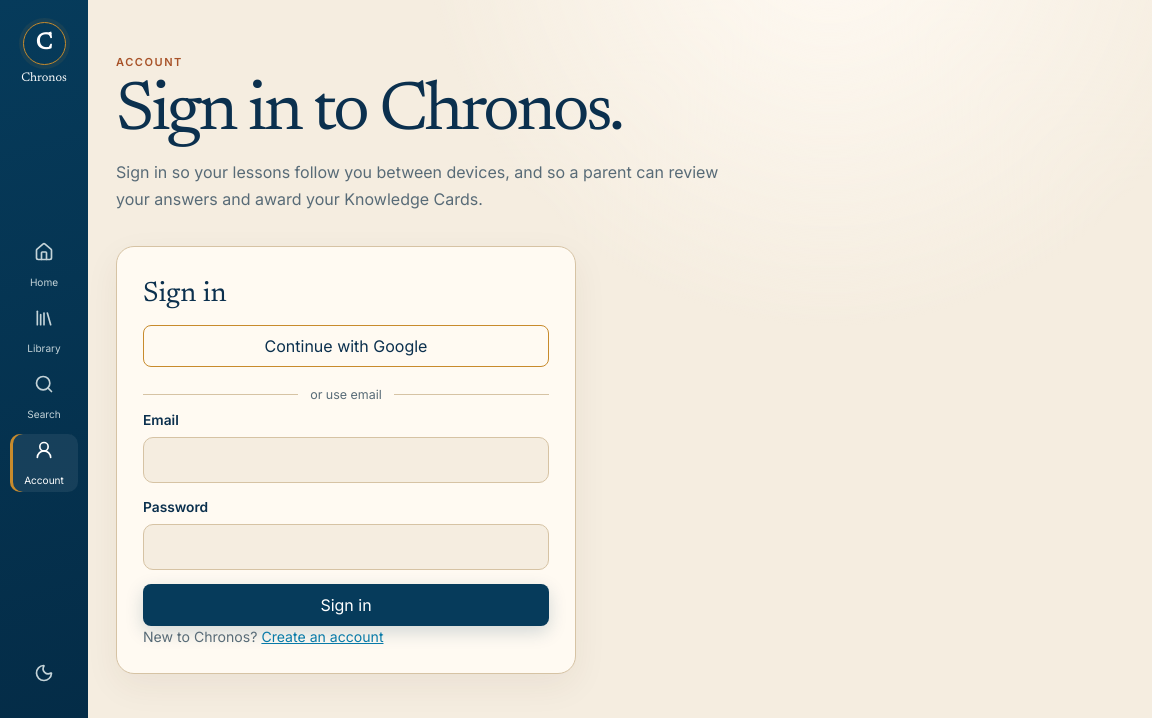
Test: Account page › signs a learner in with email and then shows their link code
Type "kid@example.test" into the field labelled "Email" at coordinates (346, 460), box 143,437 -> 549,483
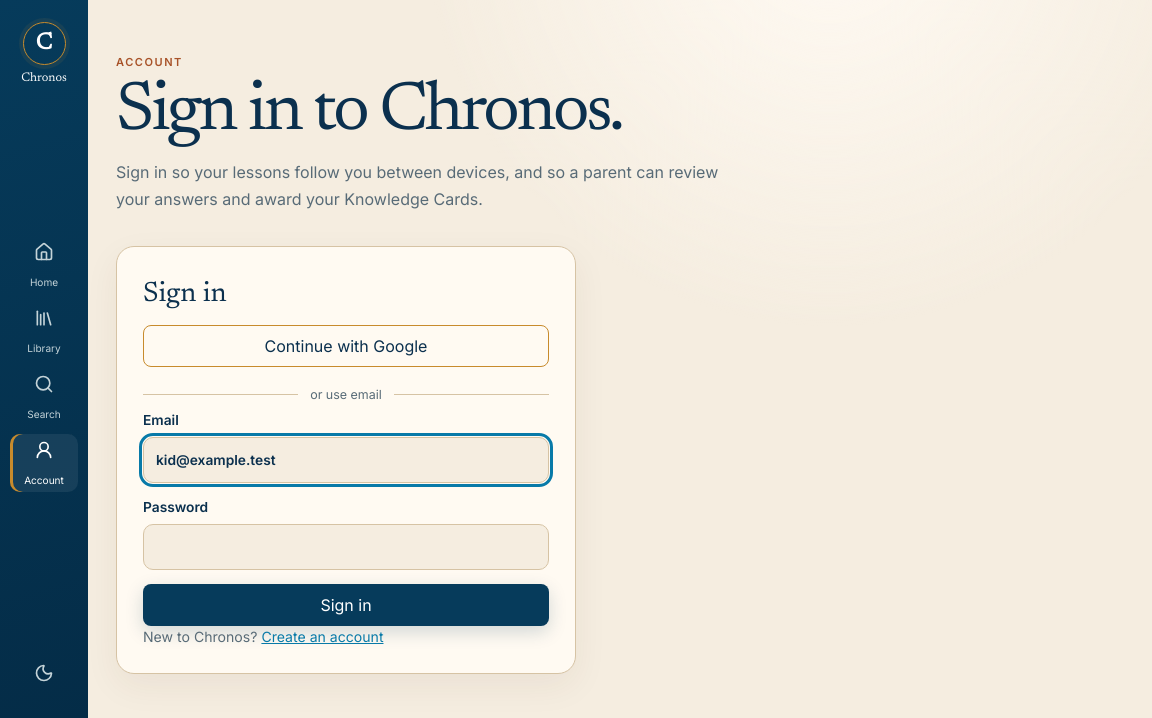
Type "secret-pass" into the password field labelled "Password" at coordinates (346, 547), box 143,524 -> 549,570
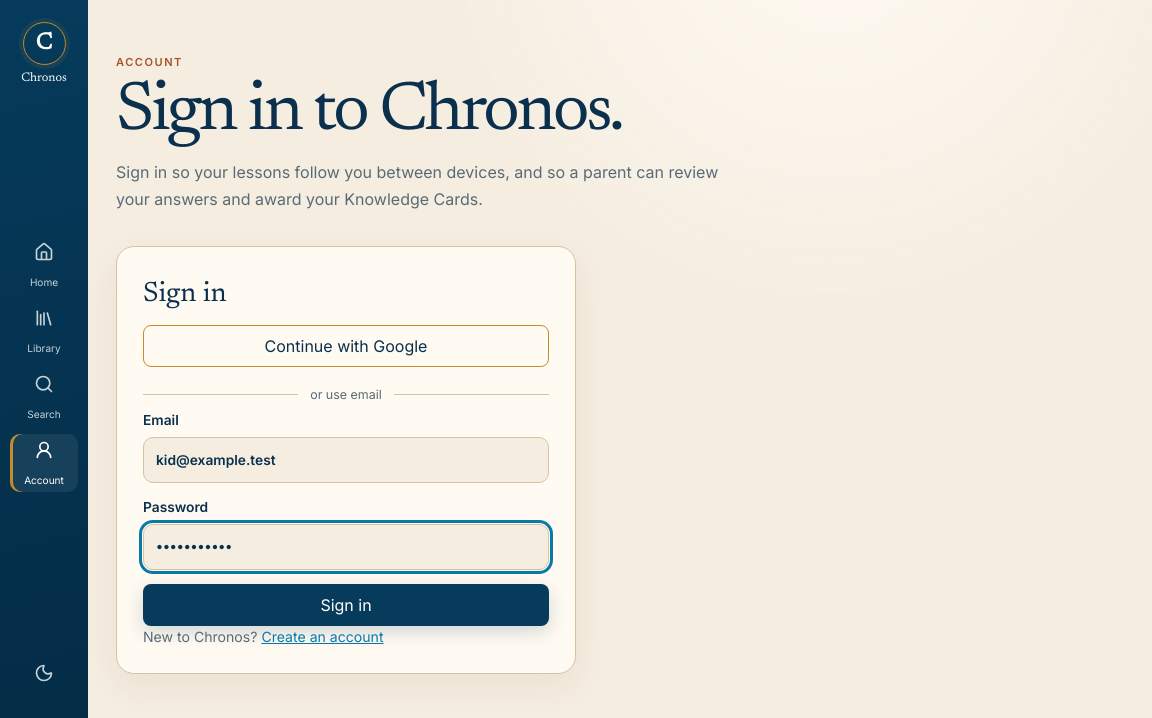
Click the button "Sign in" at coordinates (346, 605), box 143,584 -> 549,626
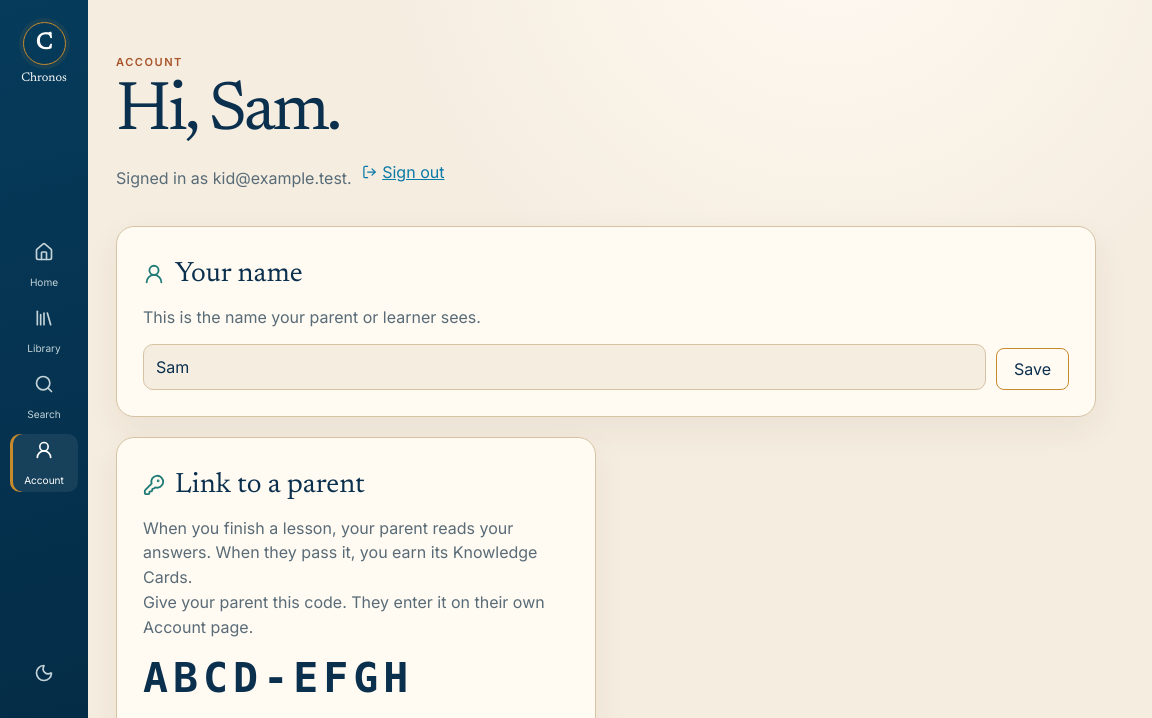
Expected: the heading "Hi, Sam." is shown, 116,78 -> 339,147
Expected: the heading "Link to a parent" is shown, 143,470 -> 365,498
Expected: the text "ABCD-EFGH" is shown, 143,652 -> 413,702
